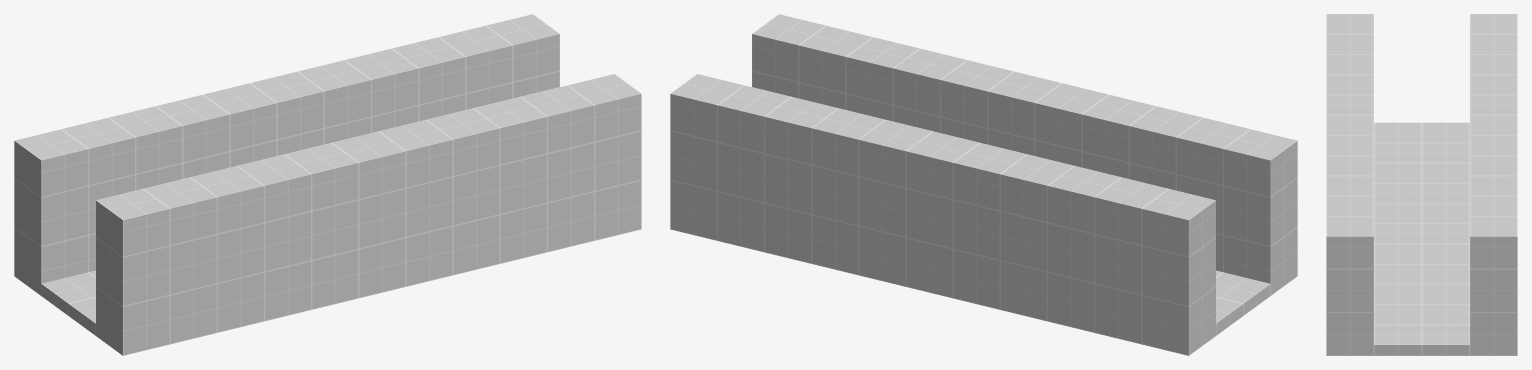
File: EastWestHallway.unity_3.obj
3 renders of one model, left to right at view 1: azimuth 30°, elevation 25°; view 2: azimuth 150°, elevation 25°; view 3: azimuth 270°, elevation 25°, orthographic. The views are drawn at different scales.
Parts seen in each view (by area): view 1: HiddenWall, HiddenWall1, Floor; view 2: HiddenWall1, HiddenWall, Floor; view 3: Floor, HiddenWall, HiddenWall1.
Boxes of the visible parts, box(x1,y1,x2,y2) form: HiddenWall: box(96, 74, 641, 355); HiddenWall1: box(14, 14, 559, 295); Floor: box(41, 270, 95, 335); HiddenWall1: box(670, 74, 1215, 355); HiddenWall: box(752, 14, 1297, 295); Floor: box(1216, 270, 1270, 335); Floor: box(1374, 122, 1469, 355); HiddenWall: box(1326, 14, 1373, 355); HiddenWall1: box(1470, 14, 1517, 355).
Bounding box in the file's own units: 11 × 2.75 × 4.
Materials: 1 (1 with a texture image).
